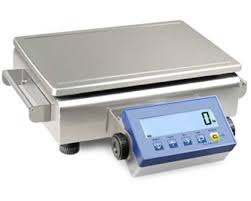Industrial Scale: (2, 19, 248, 178)
